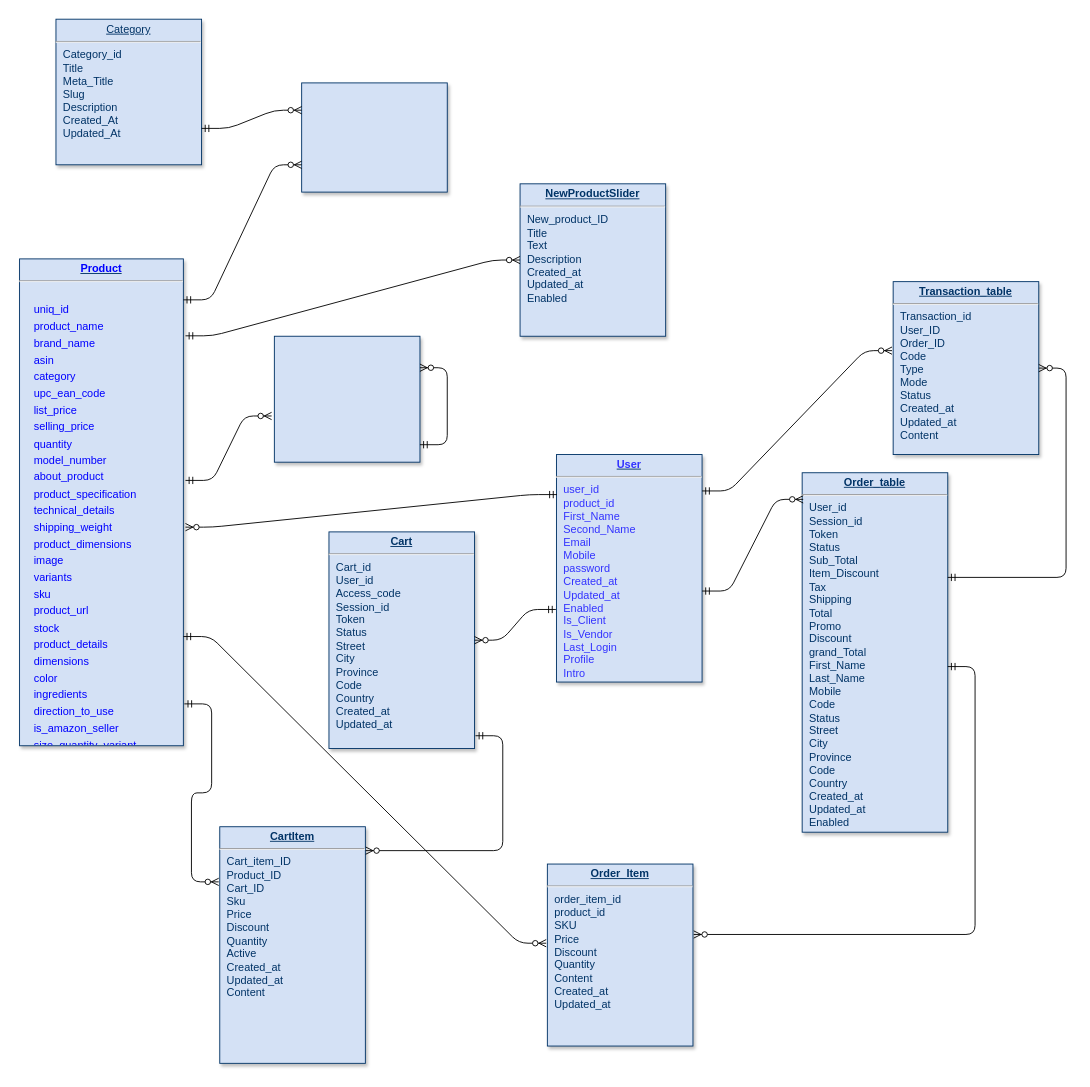
Some shapes in this 1090 by 1087 pixel diagram are drawn without their labels. Each missing label, with the centre of its shape:
"ProductCategory Product_category_id Product_id Category_id Created_At Updated_At" belongs at [375,138].
"ProductReview Review_id Product_id Title Rating Published Created_at Updated_at" belongs at [347,400].
